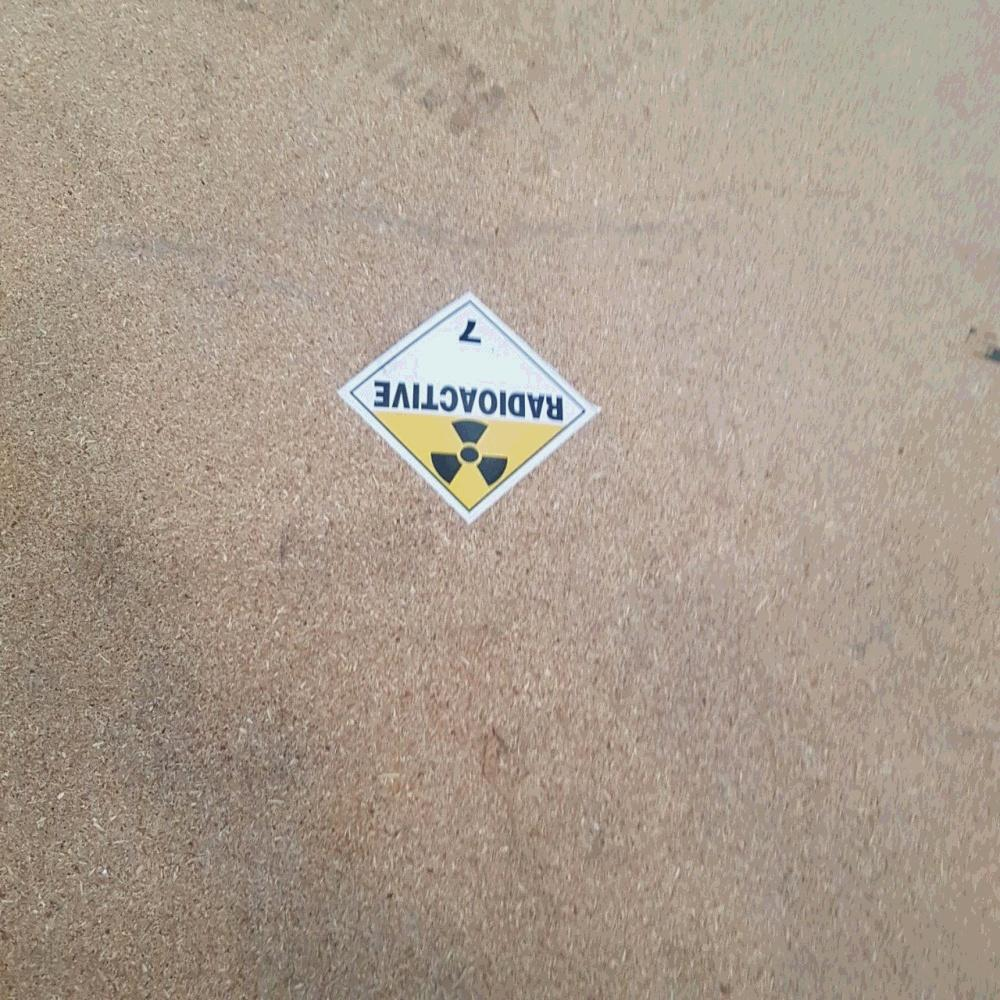radioactive: (336, 290, 603, 526)
